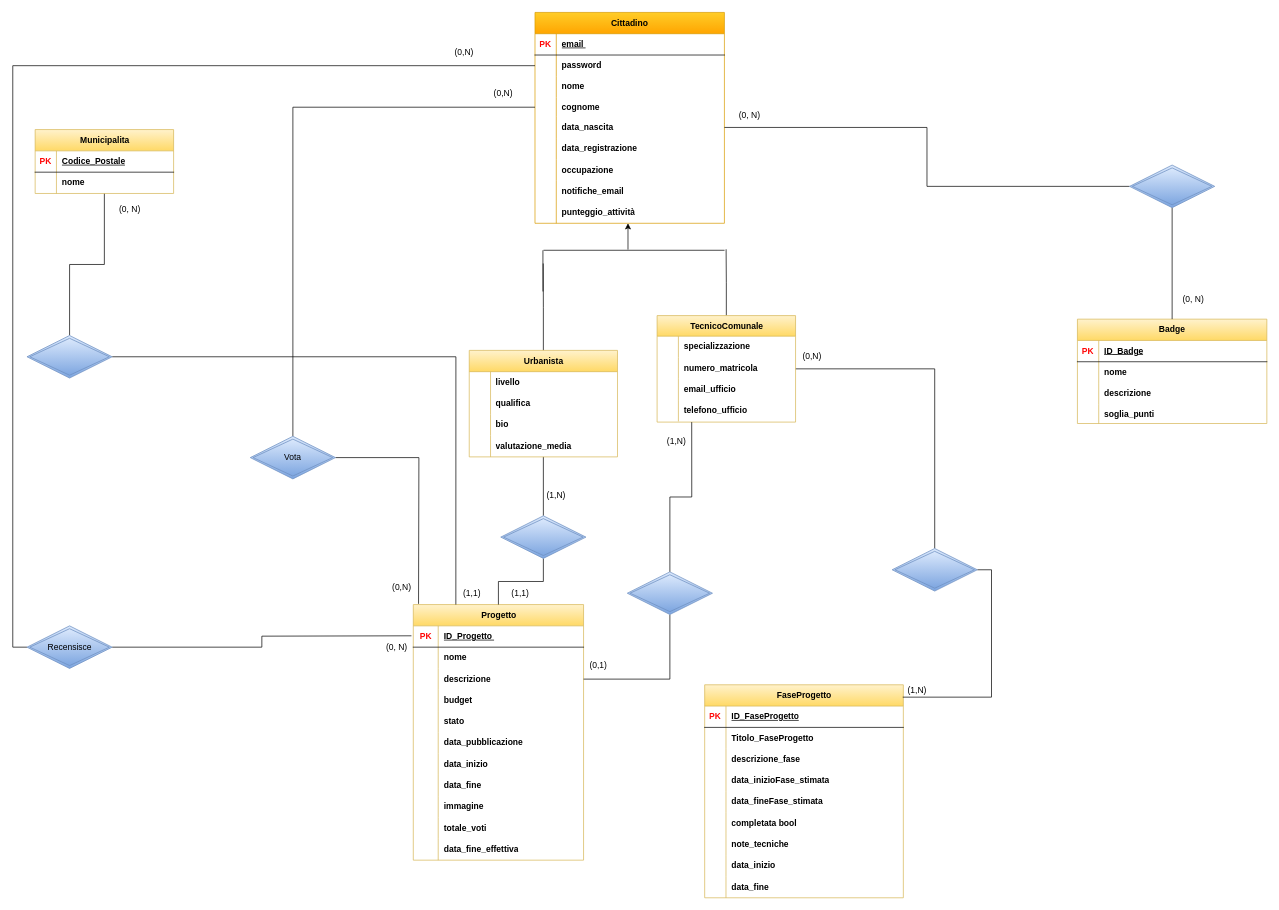
Some shapes in this 1279 by 910 pixel diagram are drawn without their labels. Each missing label, with the centre of its shape:
Approva: the point at 669,593
Coinvolge: the point at 69,356
Gestisce: the point at 934,569
Ottiene: the point at 1172,186
PROPONE: the point at 543,536
